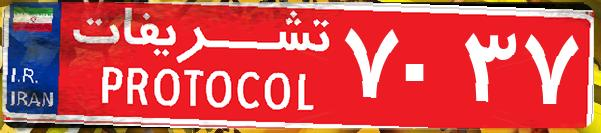0: (400, 20, 460, 115)
3: (460, 20, 520, 115)
7: (340, 20, 400, 115), (520, 20, 580, 115)
تشریفات: (60, 8, 340, 125)
